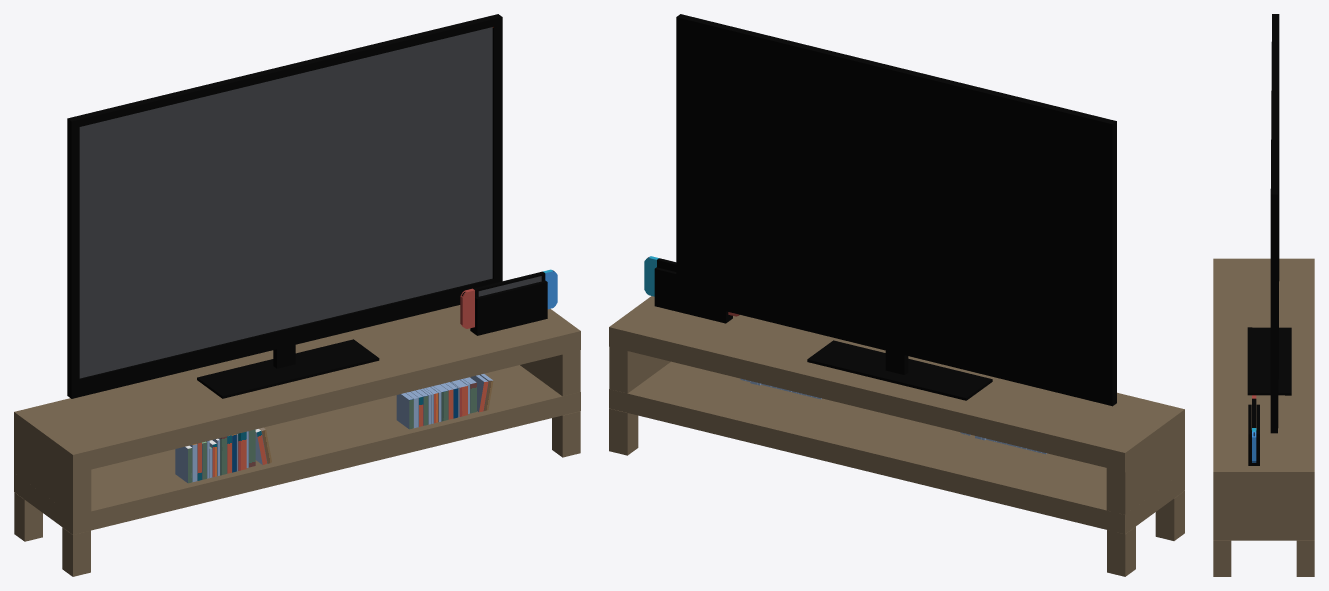
The model's file is Accesories_Entertainment_unit_D.glb.
The picture shows the model from 3 angles, left to right: view 1: azimuth 30°, elevation 25°; view 2: azimuth 150°, elevation 25°; view 3: azimuth 270°, elevation 25°; orthographic projection. The views are drawn at different scales.
Parts seen in each view (by area): view 1: Accesories_Entertainment_unit_D; view 2: Accesories_Entertainment_unit_D; view 3: Accesories_Entertainment_unit_D.
Part boxes in pixels (x1,y1,x2,y2): Accesories_Entertainment_unit_D: [14, 14, 580, 576]; Accesories_Entertainment_unit_D: [609, 14, 1184, 576]; Accesories_Entertainment_unit_D: [1213, 14, 1314, 576].
Bounding box in the file's own units: 2.12 × 1.69 × 0.4262.
Materials: 1 (1 with a texture image).
